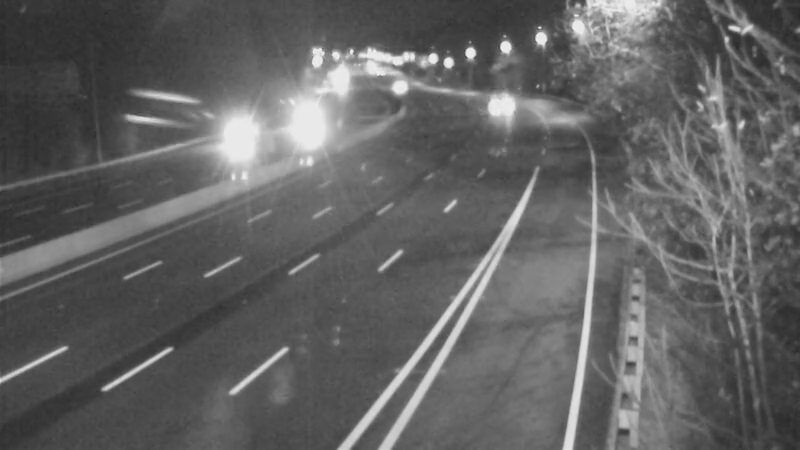vehicle: (375, 61, 425, 111), (470, 81, 520, 131), (220, 111, 270, 161), (280, 101, 330, 151)
